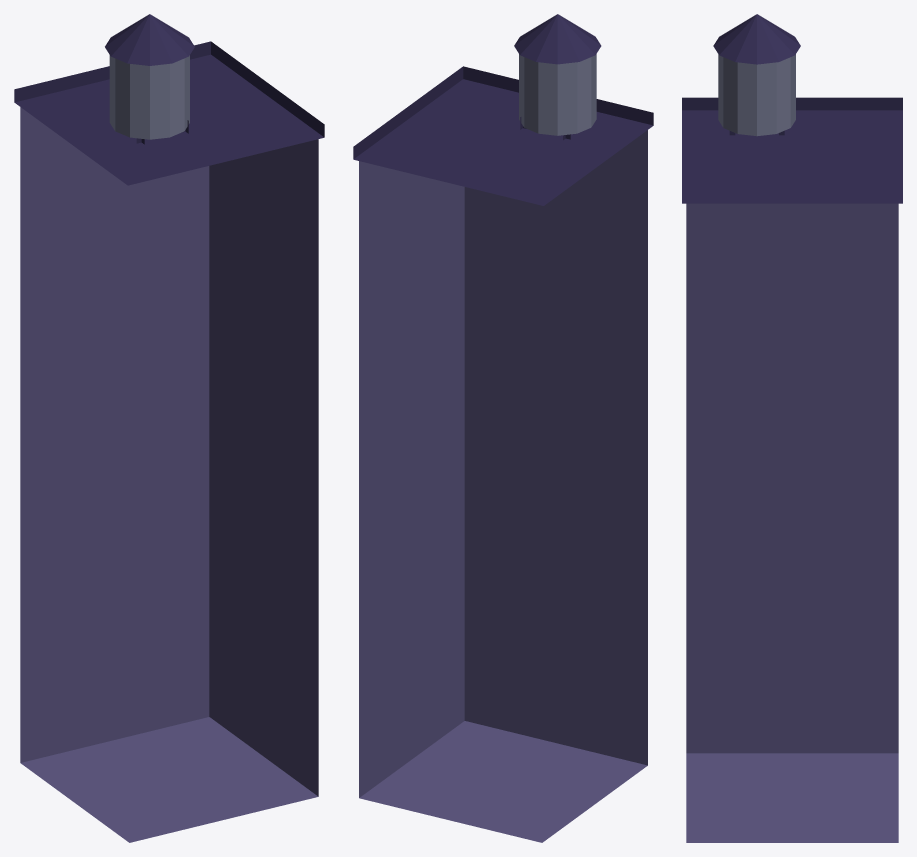
File: hop_tower_b.glb
3 renders of one model, left to right at view 1: azimuth 30°, elevation 25°; view 2: azimuth 150°, elevation 25°; view 3: azimuth 270°, elevation 25°, orthographic. The views are drawn at different scales.
Parts seen in each view (by area): view 1: hop_tower_b; view 2: hop_tower_b; view 3: hop_tower_b.
Boxes of the visible parts, x1,y1,x2,y2 form: hop_tower_b: [14, 14, 324, 842]; hop_tower_b: [353, 14, 653, 842]; hop_tower_b: [682, 14, 902, 842].
Size of the model in its own units: 3.12 by 11.95 by 3.12.
